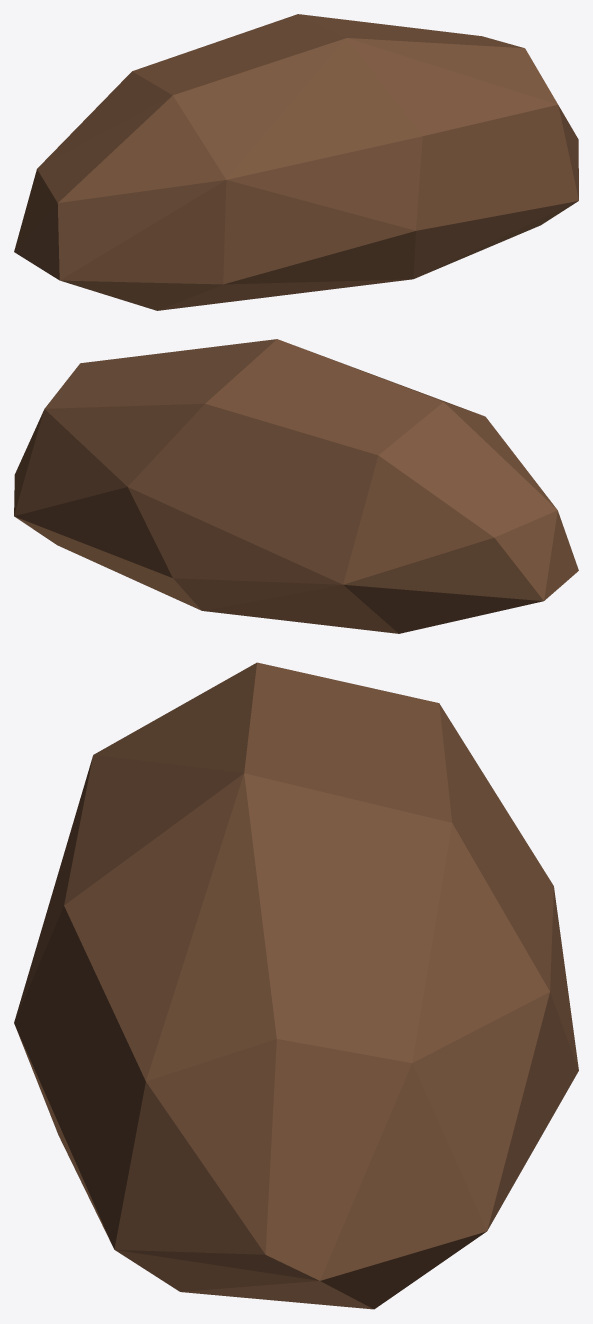
File: fantasy_food_potato.fbx
3 renders of one model, top to bottom at view 1: azimuth 30°, elevation 25°; view 2: azimuth 150°, elevation 25°; view 3: azimuth 270°, elevation 25°, orthographic. The views are drawn at different scales.
Parts seen in each view (by area): view 1: Sphere.001; view 2: Sphere.001; view 3: Sphere.001.
Boxes of the visible parts, bbox=[...] form: Sphere.001: bbox=[14, 14, 578, 310]; Sphere.001: bbox=[14, 339, 578, 633]; Sphere.001: bbox=[14, 662, 578, 1309].
Bounding box in the file's own units: 19.38 × 8.36 × 10.21.
